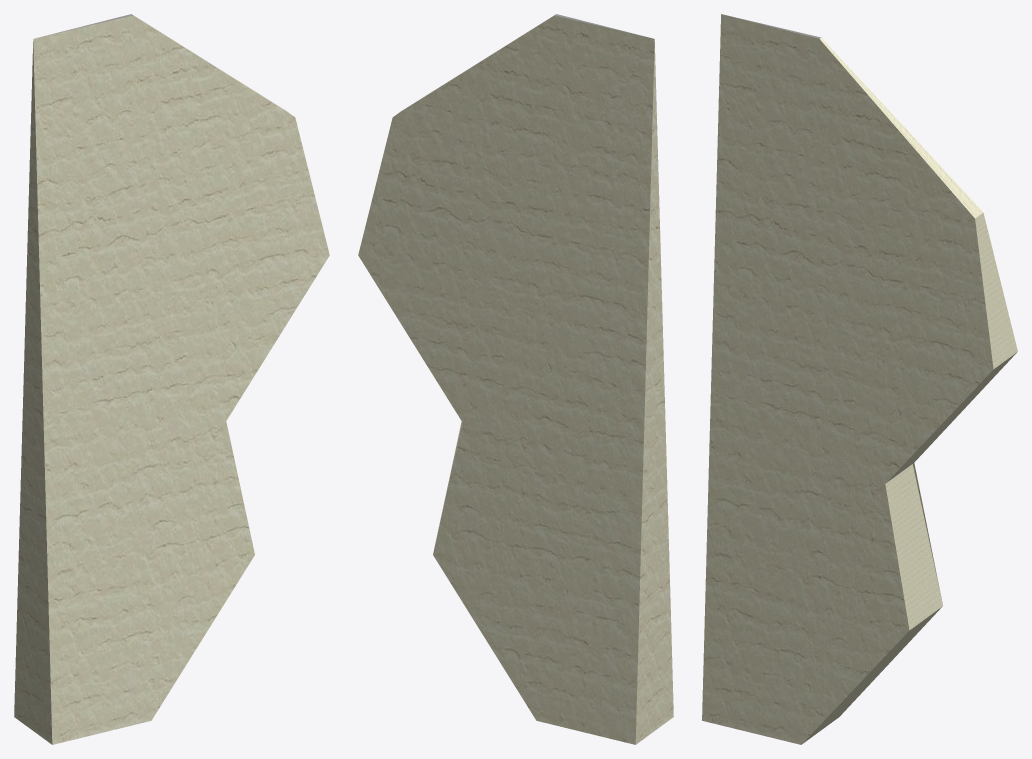
The model's file is asa.obj.
3 views of the same model, side by side, from view 1: azimuth 30°, elevation 25°; view 2: azimuth 150°, elevation 25°; view 3: azimuth 330°, elevation 25° (orthographic).
Visible parts, largest first — view 1: Cube; view 2: Cube; view 3: Cube.
Part boxes in pixels (bbox=[...]): Cube: bbox=[14, 14, 329, 744]; Cube: bbox=[358, 14, 673, 744]; Cube: bbox=[702, 14, 1017, 744].
Size of the model in its own units: 0.86 by 2 by 0.2.
Materials: 2 (1 with a texture image).
